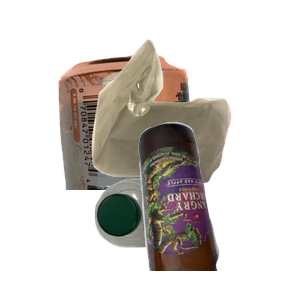glass: (136, 120, 300, 300)
metal: (56, 52, 242, 232)
plastic: (92, 176, 257, 300)
trash: (89, 37, 300, 213)
